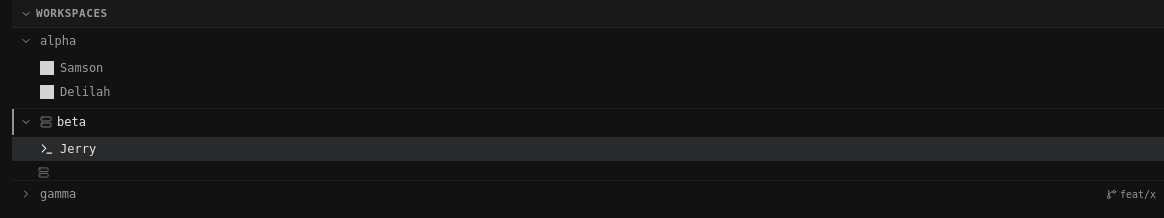
Scenario: WorkspaceNavigatorSection › auto-expands a workspace when it becomes active without collapsing others
Expected: the text "Jerry" is shown, [60,140,96,158]
Expected: the button named "Collapse alpha" is shown, [16,31,36,51]
# A user collapse sticks until that workspace is activated again.
What coordinates should you click on to do the following:
click the button named "Collapse beta"
I would click on:
 (26, 122)
Its box is [16,112,36,132].
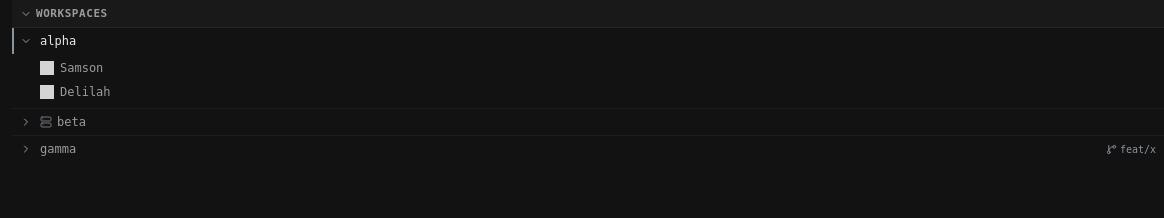
Now the button "Jerry" is gone
